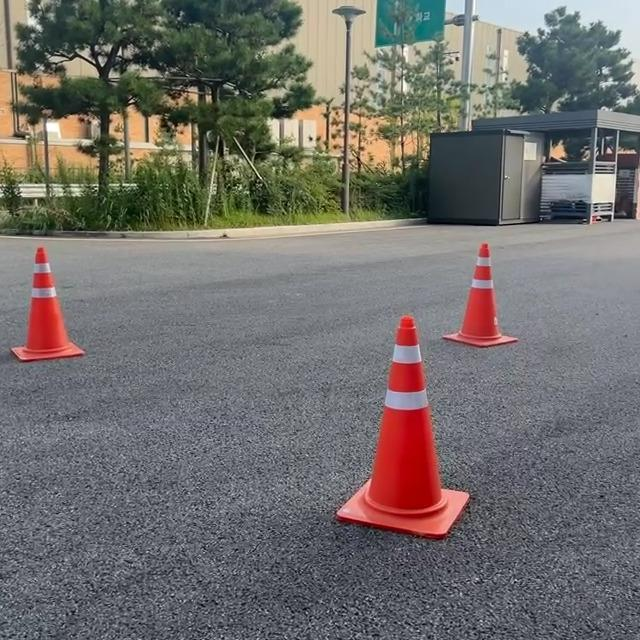fallen_object: (292, 301, 494, 570), (435, 237, 542, 397), (10, 222, 70, 397)
